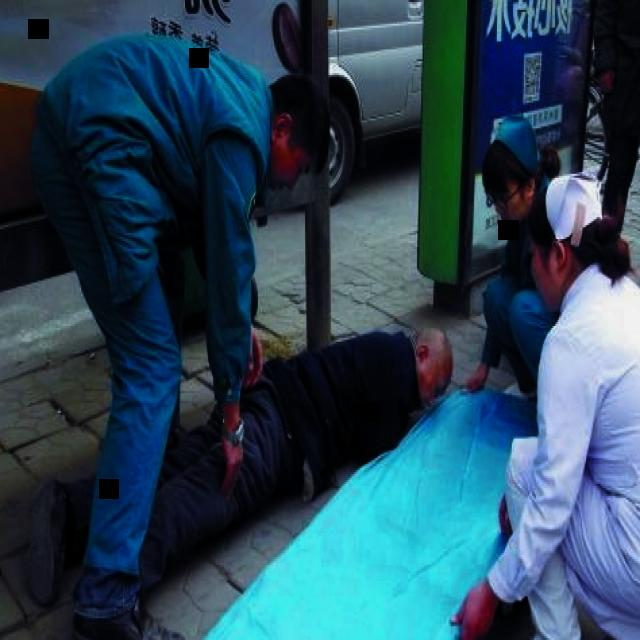Fall-Detected: (9, 308, 476, 632)
